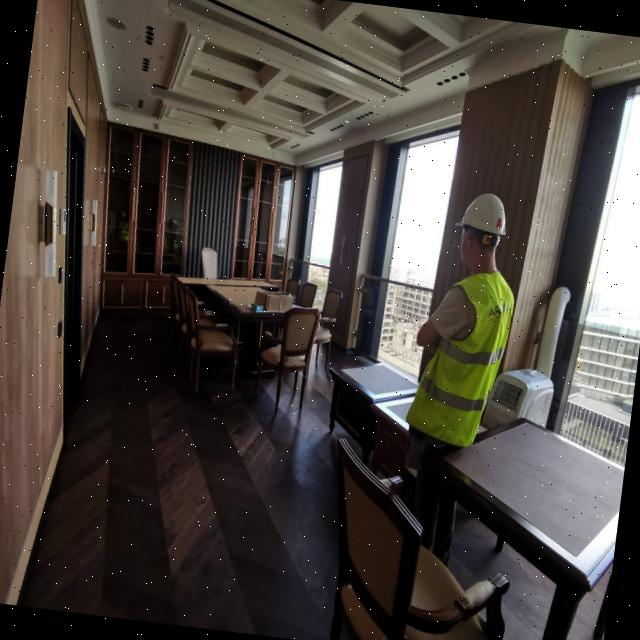Helmet: (454, 190, 514, 253)
Jacket: (417, 259, 521, 449)
